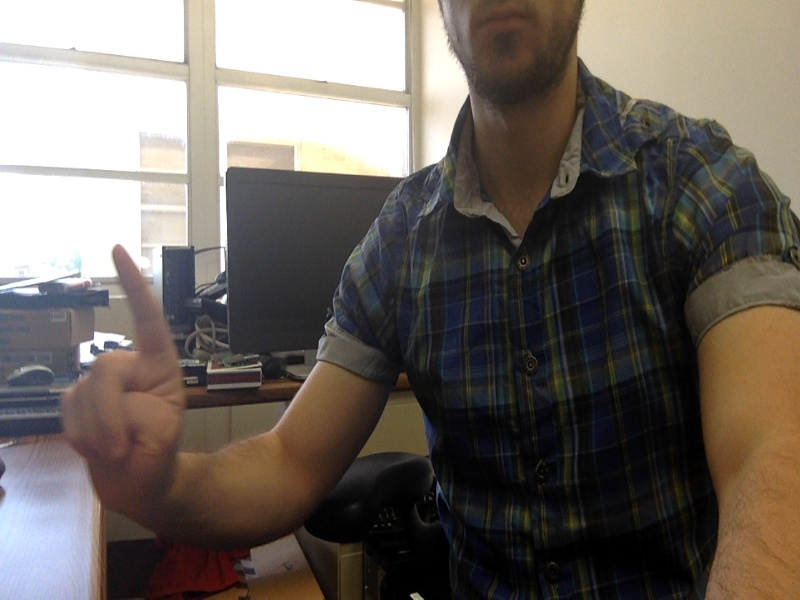1-hand: (54, 246, 189, 516)
